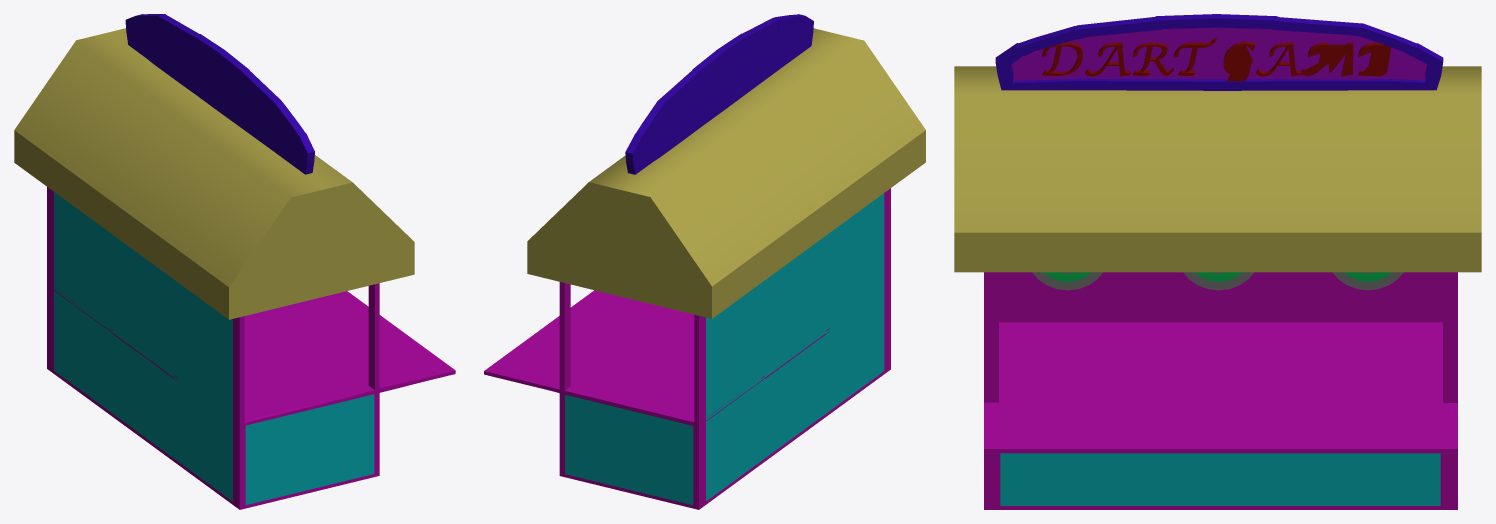
Rendered from 3_third_Booth.fbx.
3 renders of one model, left to right at view 1: azimuth 30°, elevation 25°; view 2: azimuth 150°, elevation 25°; view 3: azimuth 270°, elevation 25°, orthographic. The views are drawn at different scales.
Parts seen in each view (by area): view 1: polySurface164; view 2: polySurface164; view 3: polySurface164.
Boxes of the visible parts, box(x1,y1,x2,y2) form: polySurface164: box(14, 14, 455, 509); polySurface164: box(484, 14, 925, 509); polySurface164: box(954, 14, 1481, 509).
Size of the model in its own units: 4.95 by 7.34 by 7.71.
